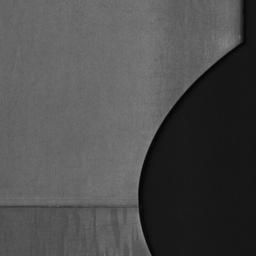Crescent gap: (138, 43, 240, 256)
